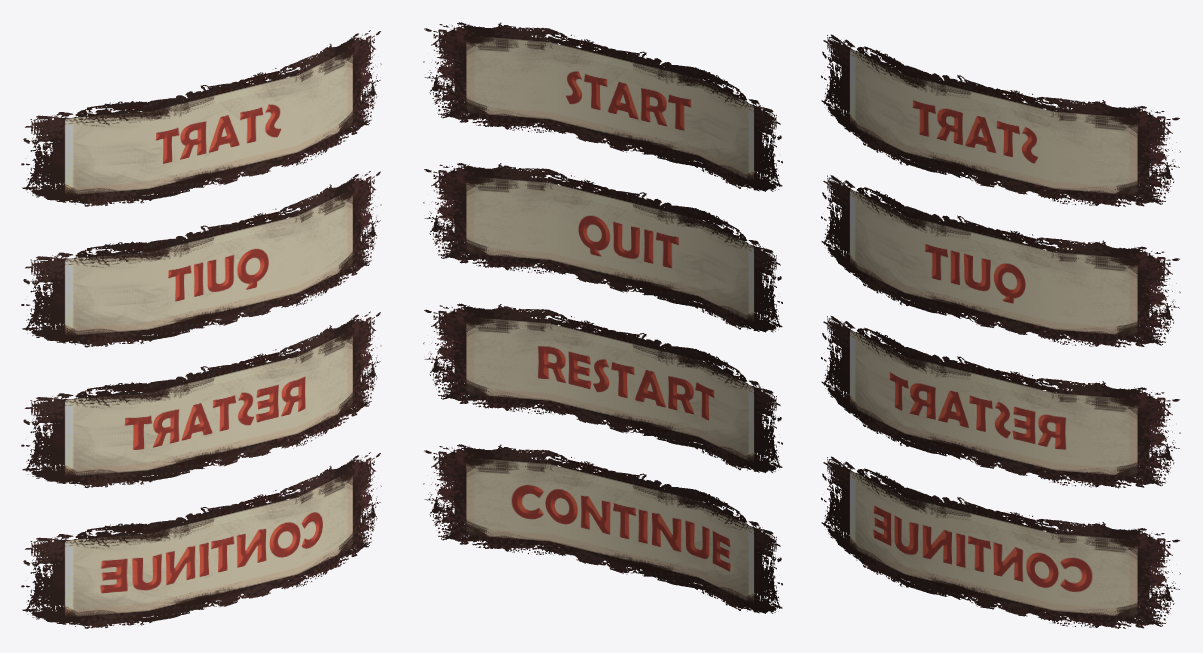
Rendered from All ui buttons.fbx.
3 views of the same model, side by side, from view 1: azimuth 30°, elevation 25°; view 2: azimuth 150°, elevation 25°; view 3: azimuth 330°, elevation 25° (orthographic).
Visible parts, largest first — view 1: Button_start, Button_quit, Button_continue, Button_restart; view 2: Button_quit, Button_restart, Button_start, Button_continue; view 3: Button_start, Button_continue, Button_restart, Button_quit.
Part boxes in pixels (x1,y1,x2,y2): Button_start: [21, 30, 381, 206]; Button_quit: [21, 171, 381, 347]; Button_continue: [21, 452, 381, 628]; Button_restart: [21, 311, 381, 487]; Button_quit: [423, 163, 782, 332]; Button_restart: [423, 303, 782, 472]; Button_start: [423, 22, 782, 191]; Button_continue: [423, 444, 782, 613]; Button_start: [821, 34, 1180, 206]; Button_continue: [821, 456, 1180, 628]; Button_restart: [821, 316, 1180, 488]; Button_quit: [821, 175, 1180, 347].
Size of the model in its own units: 8.32 by 11.39 by 0.8764.
